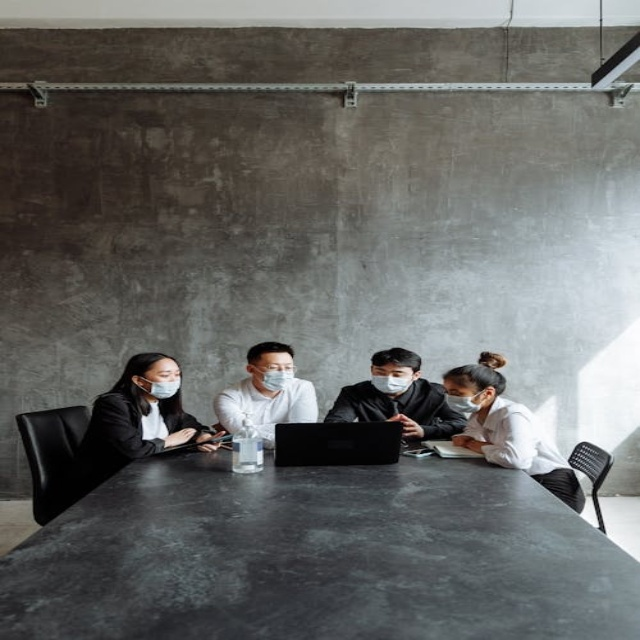Gafas: (246, 361, 296, 370)
Mascara: (444, 390, 487, 414), (139, 376, 181, 399), (370, 371, 413, 393), (255, 368, 295, 390)
Sin_gafas: (367, 365, 411, 376), (142, 368, 184, 379), (442, 387, 472, 396)
Sin_guantes: (161, 422, 201, 449), (195, 433, 228, 452), (395, 421, 424, 439)
